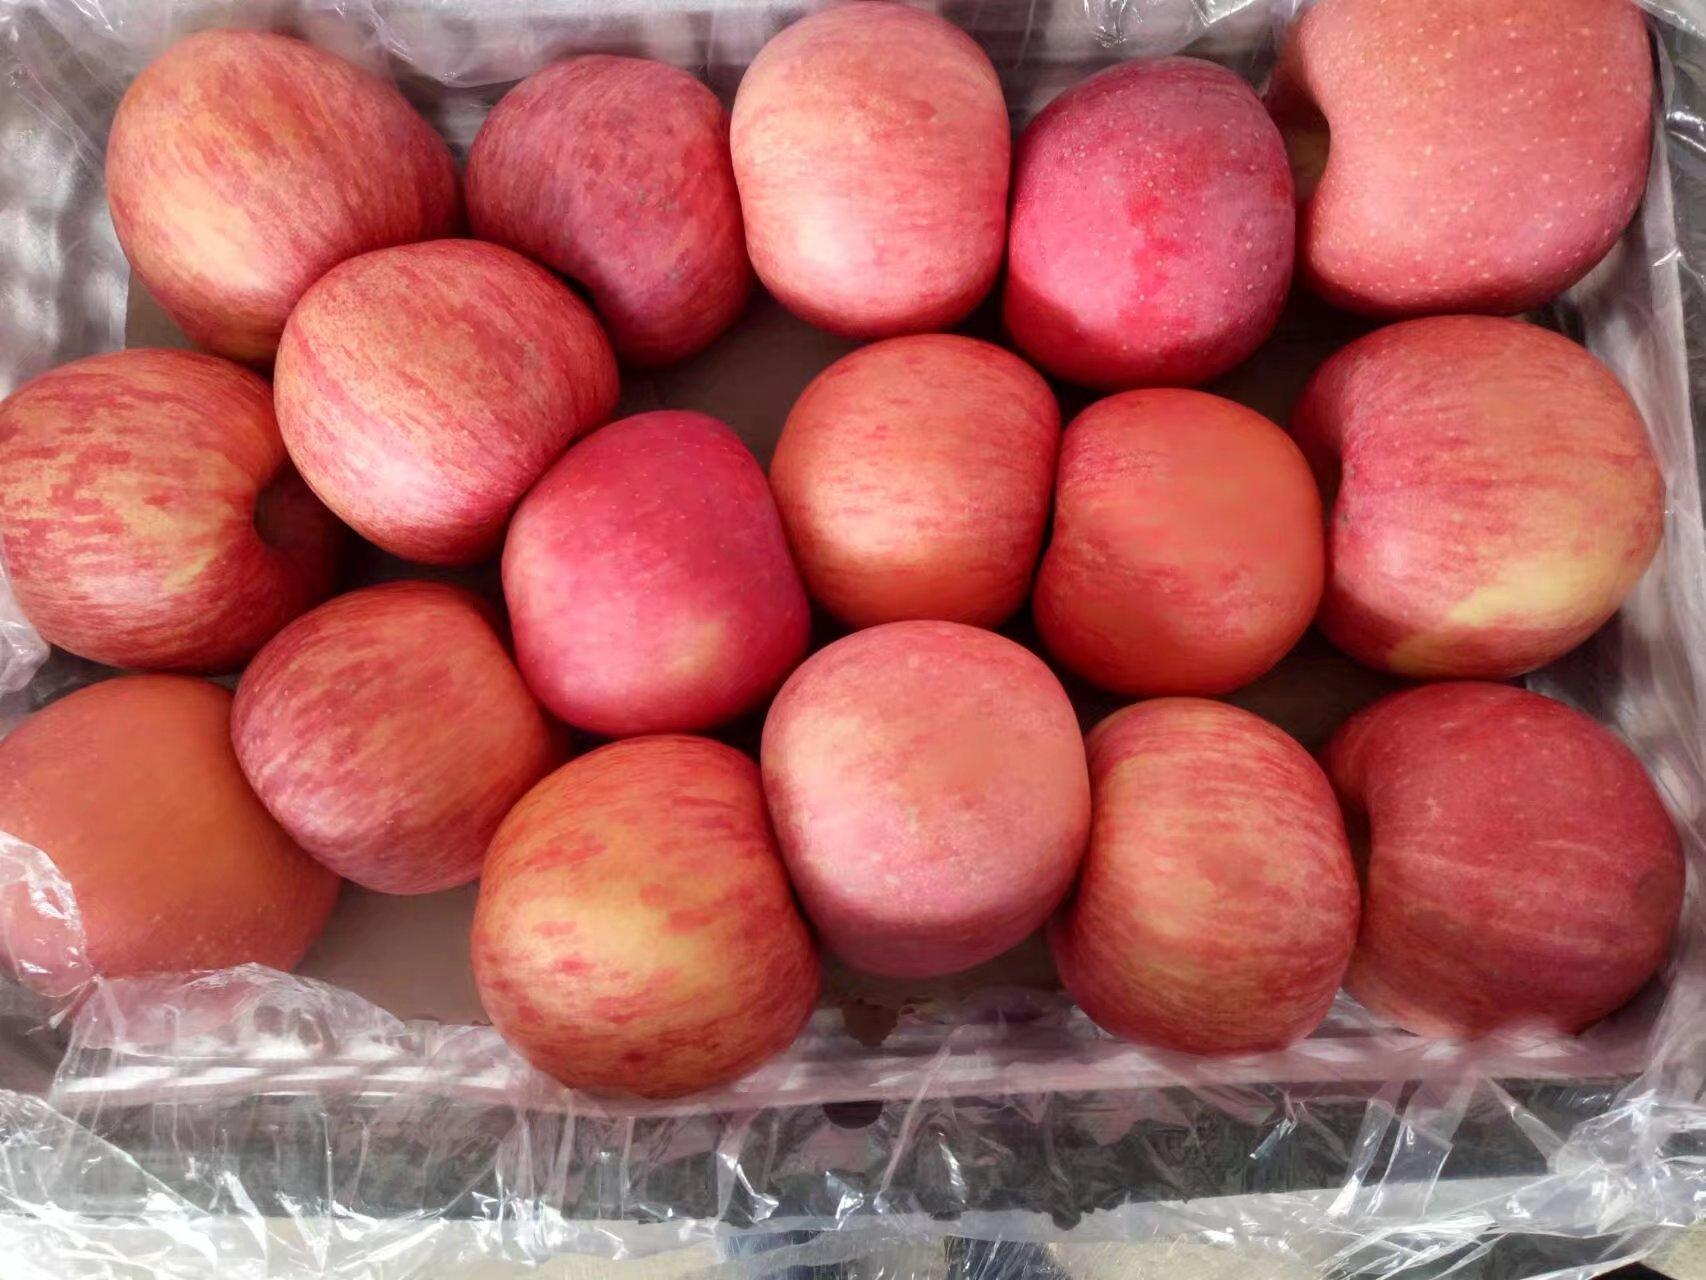apple: (1287, 319, 1652, 684), (464, 727, 821, 1101), (1327, 678, 1683, 1047), (765, 618, 1098, 998), (1278, 1, 1658, 323), (1, 342, 343, 680), (102, 26, 446, 355), (277, 233, 622, 559), (1053, 694, 1360, 1057), (225, 575, 570, 897), (1, 670, 340, 987), (505, 405, 813, 744), (1006, 52, 1305, 395), (731, 1, 1030, 343), (458, 47, 756, 355), (1041, 393, 1334, 692), (768, 327, 1059, 628)
